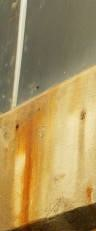Corrosion: (1, 64, 96, 231)
